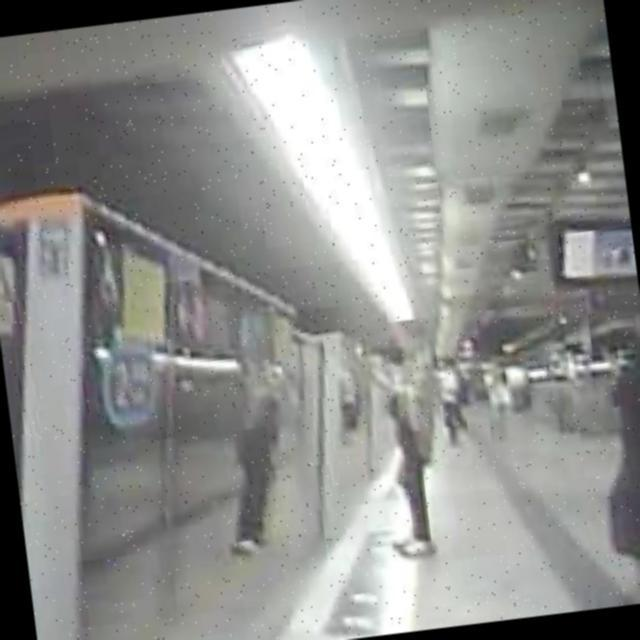person: (206, 360, 302, 558), (587, 309, 640, 605), (371, 372, 448, 560), (478, 356, 526, 440), (434, 363, 472, 448)
